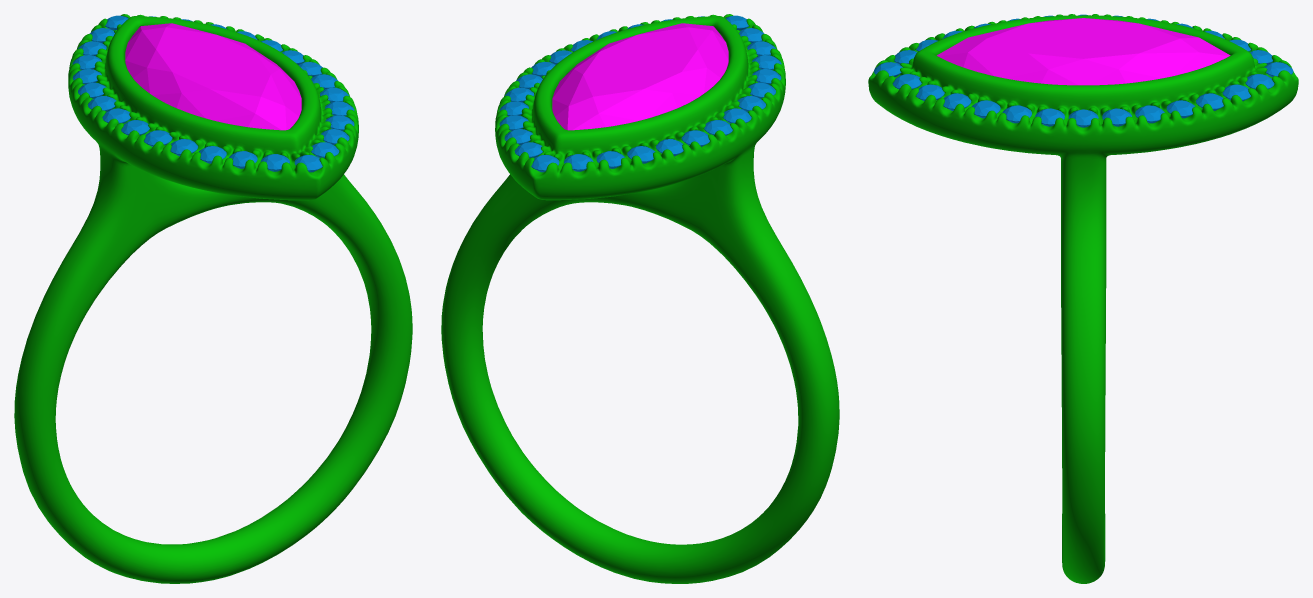
The model's file is BE1D874_MQ_200ct_RENDER.glb.
The picture shows the model from 3 angles, left to right: view 1: azimuth 30°, elevation 25°; view 2: azimuth 150°, elevation 25°; view 3: azimuth 270°, elevation 25°; orthographic projection.
Parts seen in each view (by area): view 1: Metal 01, CS_Diamond_Marquise; view 2: Metal 01, CS_Diamond_Marquise; view 3: Metal 01, CS_Diamond_Marquise.
Part boxes in pixels (x1,y1,x2,y2): Metal 01: (14, 14, 412, 583); CS_Diamond_Marquise: (125, 23, 301, 130); Metal 01: (441, 14, 839, 583); CS_Diamond_Marquise: (552, 23, 728, 130); Metal 01: (868, 14, 1298, 583); CS_Diamond_Marquise: (936, 18, 1230, 85).
Size of the model in its own units: 20.05 by 25.25 by 18.78.
